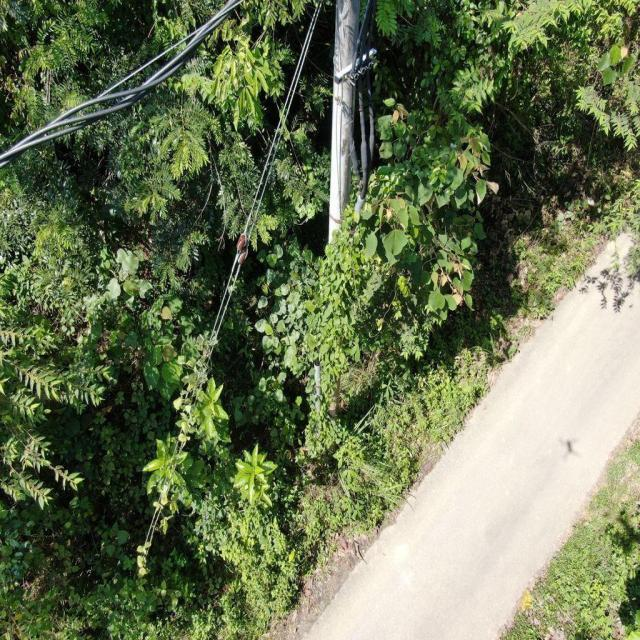critical vegetation: (294, 182, 366, 440)
